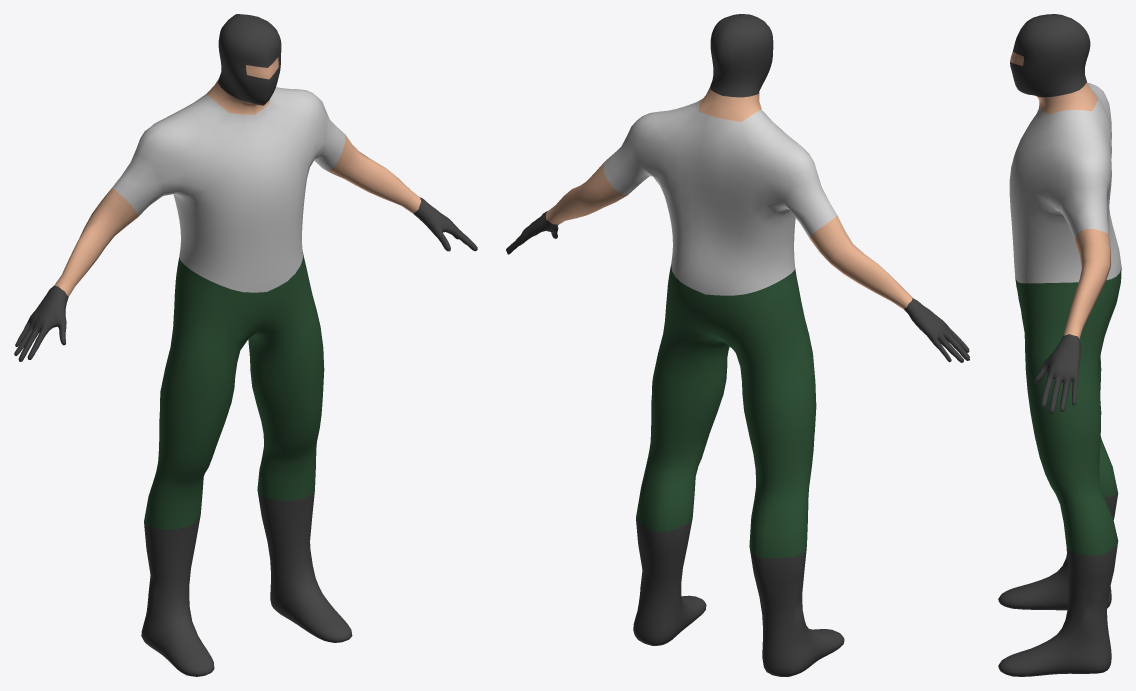
Rendered from HOMEM_FORTE_HIGH_POLY.fbx.
The picture shows the model from 3 angles, left to right: view 1: azimuth 30°, elevation 25°; view 2: azimuth 150°, elevation 25°; view 3: azimuth 270°, elevation 25°; orthographic projection.
Visible parts, largest first — view 1: HOMEM_FORTE; view 2: HOMEM_FORTE; view 3: HOMEM_FORTE.
Part boxes in pixels (bbox=[...]): HOMEM_FORTE: bbox=[14, 14, 477, 676]; HOMEM_FORTE: bbox=[506, 14, 969, 676]; HOMEM_FORTE: bbox=[998, 14, 1121, 676].
Size of the model in its own units: 550 by 715 by 129.
